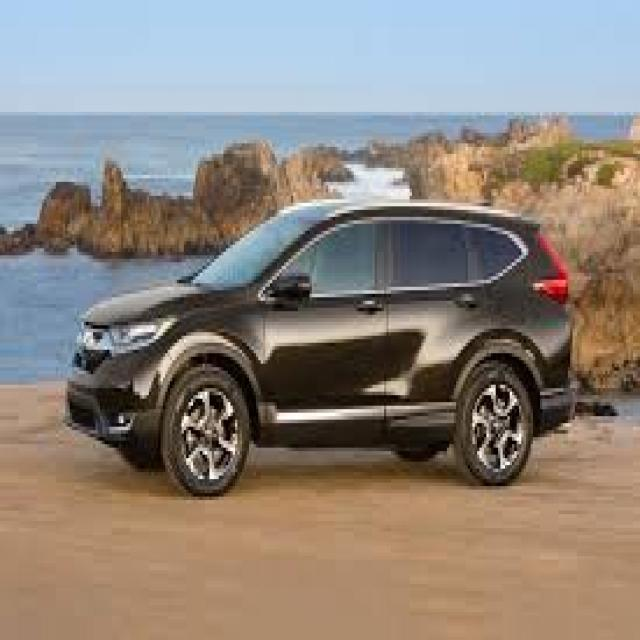Car: (59, 198, 589, 506)
